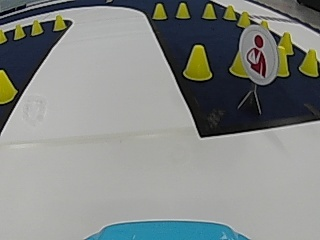cone: (183, 43, 212, 81), (276, 33, 290, 76), (0, 68, 16, 102), (228, 49, 248, 76), (300, 48, 318, 77), (152, 3, 167, 20), (176, 2, 190, 19), (52, 14, 66, 31), (202, 3, 216, 19), (237, 11, 250, 27), (31, 19, 43, 35), (223, 5, 236, 19), (13, 24, 25, 39), (0, 27, 7, 43)
patient: (245, 24, 276, 78)
